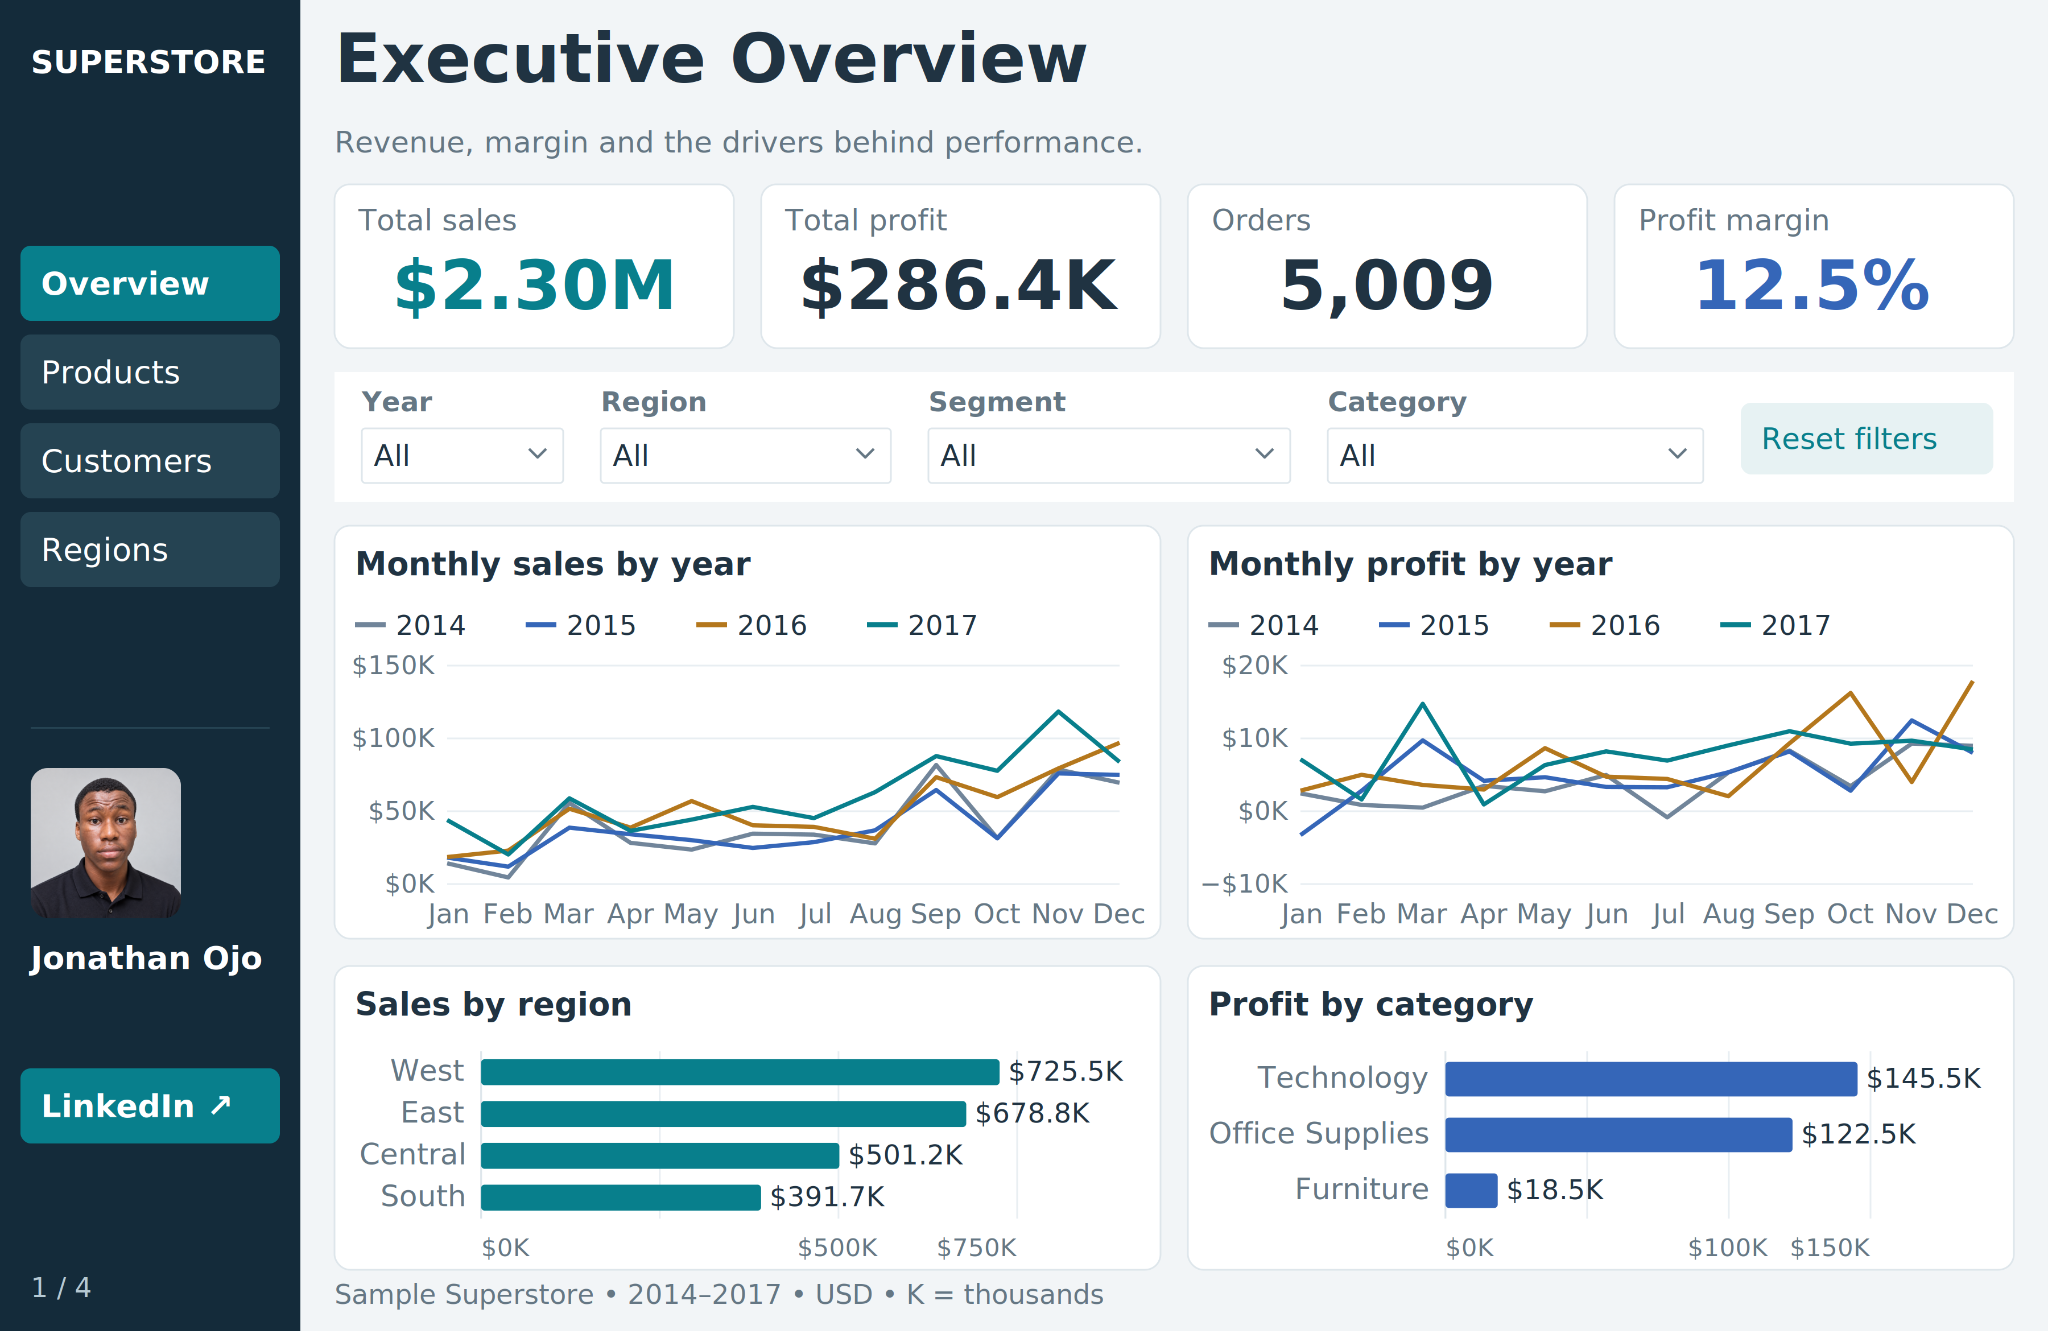

What the dashboard file says about the page in this screenshot:
{"tool":"powerbi","page":{"name":"Executive Overview","canvas":[1200,780],"ordinal":0},"visuals":[{"type":"shape","box":[0,0,176,780],"z":0},{"type":"textbox","box":[18,24,144,38],"z":1000},{"type":"actionButton","box":[12,144,152,44],"z":4000},{"type":"actionButton","box":[12,196,152,44],"z":5000},{"type":"actionButton","box":[12,248,152,44],"z":6000},{"type":"actionButton","box":[12,300,152,44],"z":7000},{"type":"shape","box":[18,426,140,1],"z":8000},{"type":"image","box":[18,450,88,88],"z":9000},{"type":"textbox","box":[18,549,150,34],"z":10000},{"type":"actionButton","box":[12,626,152,44],"z":12000},{"type":"textbox","box":[18,744,140,30],"z":14000},{"type":"textbox","box":[196,8,984,62],"z":15000},{"type":"textbox","box":[196,72,984,32],"z":16000},{"type":"shape","box":[196,218,984,76],"z":17000},{"type":"slicer","title":"Year","fields":{"Values":["DateTable.Year"]},"box":[208,222,126,68],"z":18000},{"type":"slicer","title":"Region","fields":{"Values":["Sample-Superstore.Region"]},"box":[348,222,178,68],"z":19000},{"type":"slicer","title":"Segment","fields":{"Values":["Sample-Superstore.Segment"]},"box":[540,222,220,68],"z":20000},{"type":"slicer","title":"Category","fields":{"Values":["Sample-Superstore.Category"]},"box":[774,222,228,68],"z":21000},{"type":"actionButton","box":[1020,236,148,42],"z":22000},{"type":"textbox","box":[196,748,984,30],"z":23000},{"type":"card","title":"Total sales","fields":{"Values":["Sample-Superstore.Total Sales"]},"box":[196,108,234,96],"z":24000},{"type":"card","title":"Total profit","fields":{"Values":["Sample-Superstore.Total Profit"]},"box":[446,108,234,96],"z":25000},{"type":"card","title":"Orders","fields":{"Values":["Sample-Superstore.Total Orders"]},"box":[696,108,234,96],"z":26000},{"type":"card","title":"Profit margin","fields":{"Values":["Sample-Superstore.Profit Margin %"]},"box":[946,108,234,96],"z":27000},{"type":"lineChart","title":"Monthly sales by year","fields":{"Category":["DateTable.Month"],"Y":["Sample-Superstore.Total Sales"],"Series":["DateTable.Year"]},"box":[196,308,484,242],"z":28000},{"type":"lineChart","title":"Monthly profit by year","fields":{"Category":["DateTable.Month"],"Y":["Sample-Superstore.Total Profit"],"Series":["DateTable.Year"]},"box":[696,308,484,242],"z":29000},{"type":"clusteredBarChart","title":"Sales by region","fields":{"Category":["Sample-Superstore.Region"],"Y":["Sample-Superstore.Total Sales"]},"box":[196,566,484,178],"z":30000},{"type":"clusteredBarChart","title":"Profit by category","fields":{"Category":["Sample-Superstore.Category"],"Y":["Sample-Superstore.Total Profit"]},"box":[696,566,484,178],"z":31000}]}

Visuals, with their boxes in screenshot pixels (x1, y1, x2, y2), scaled from the page's 1200x780 canvas onto the 2048x1331 screenshot:
shape: 0/0/300/1330
textbox: 31/41/276/106
actionButton: 20/246/280/321
actionButton: 20/334/280/410
actionButton: 20/423/280/498
actionButton: 20/512/280/587
shape: 31/727/270/729
image: 31/768/181/918
textbox: 31/937/287/995
actionButton: 20/1068/280/1143
textbox: 31/1270/270/1321
textbox: 335/14/2014/119
textbox: 335/123/2014/177
shape: 335/372/2014/502
"Year" slicer: 355/379/570/495
"Region" slicer: 594/379/898/495
"Segment" slicer: 922/379/1297/495
"Category" slicer: 1321/379/1710/495
actionButton: 1741/403/1993/474
textbox: 335/1276/2014/1328
"Total sales" card: 335/184/734/348
"Total profit" card: 761/184/1161/348
"Orders" card: 1188/184/1587/348
"Profit margin" card: 1615/184/2014/348
"Monthly sales by year" lineChart: 335/526/1161/939
"Monthly profit by year" lineChart: 1188/526/2014/939
"Sales by region" clusteredBarChart: 335/966/1161/1270
"Profit by category" clusteredBarChart: 1188/966/2014/1270
